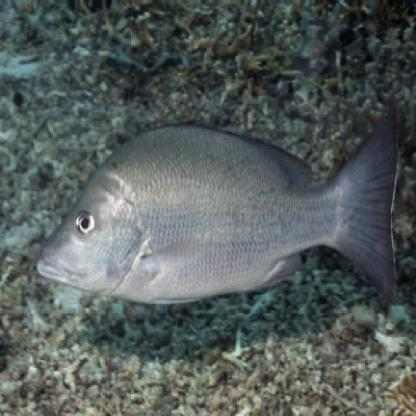snapper: (31, 94, 408, 315)
